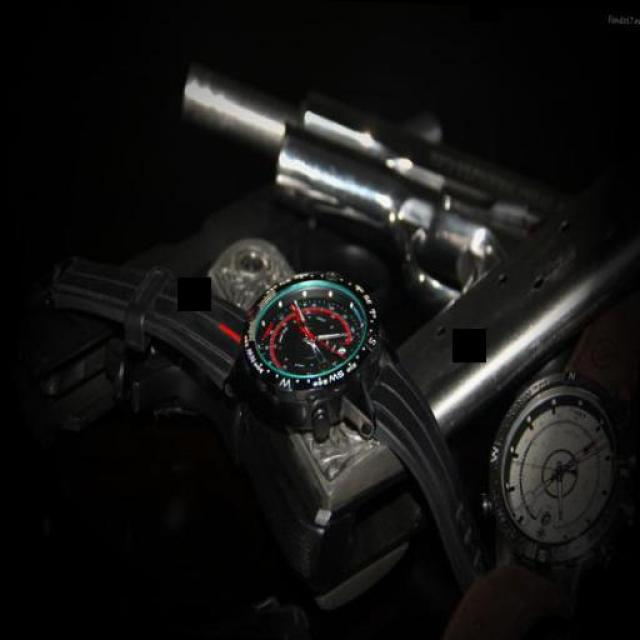gun: (4, 90, 448, 618), (169, 50, 640, 415)
